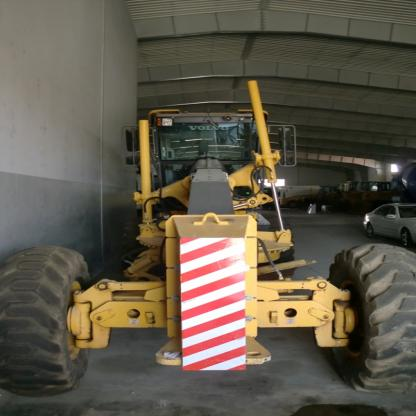bull_dozer/loader/grader: (0, 95, 415, 395)
